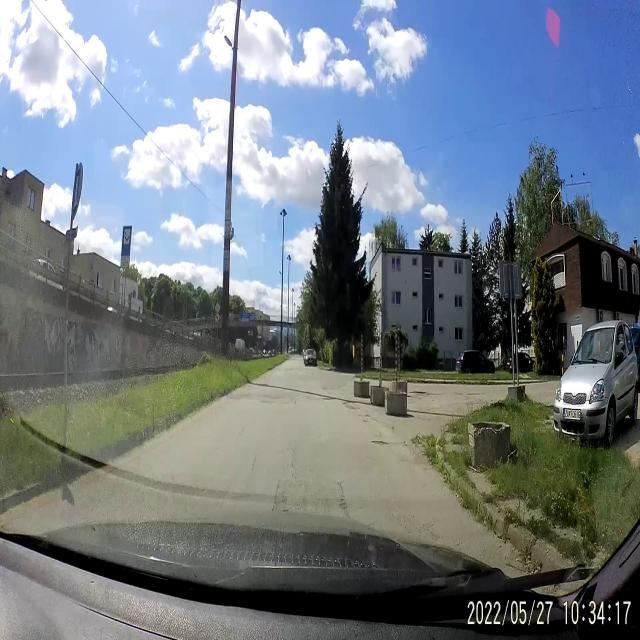Pothole: (370, 436, 390, 448), (359, 409, 372, 425)
